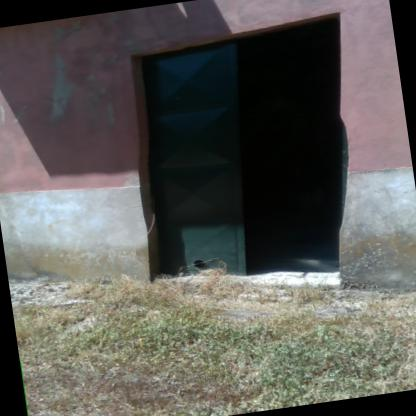open: (113, 1, 378, 297)
